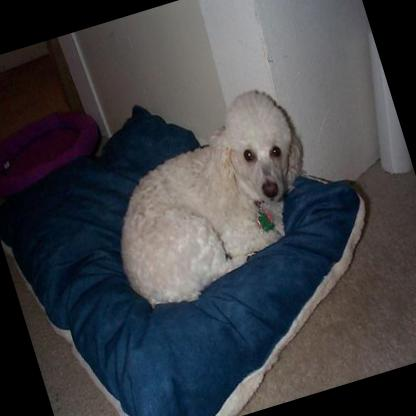miniature_poodle: (81, 75, 336, 319)
